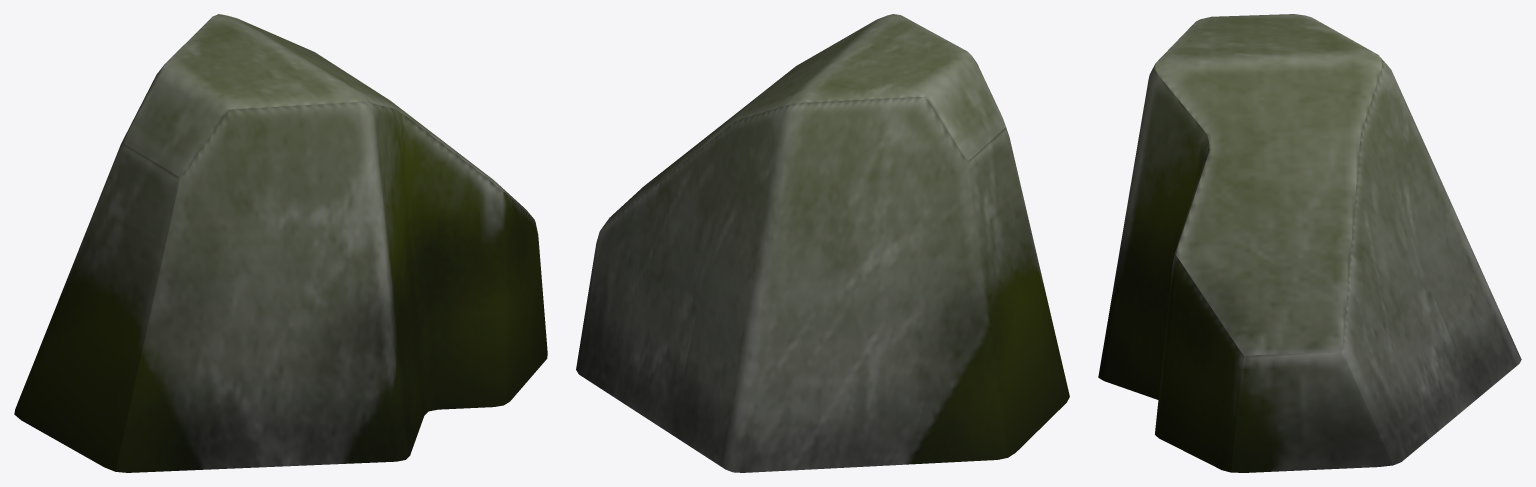
The model's file is rock2_unity.fbx.
3 renders of one model, left to right at view 1: azimuth 30°, elevation 25°; view 2: azimuth 150°, elevation 25°; view 3: azimuth 270°, elevation 25°, orthographic. The views are drawn at different scales.
Visible parts, largest first — view 1: Object010; view 2: Object010; view 3: Object010.
Part boxes in pixels (bbox=[...]): Object010: bbox=[14, 14, 547, 472]; Object010: bbox=[576, 14, 1069, 472]; Object010: bbox=[1098, 14, 1521, 472].
Bounding box in the file's own units: 35.5 × 31.07 × 25.17.
1 material, 1 textured.
